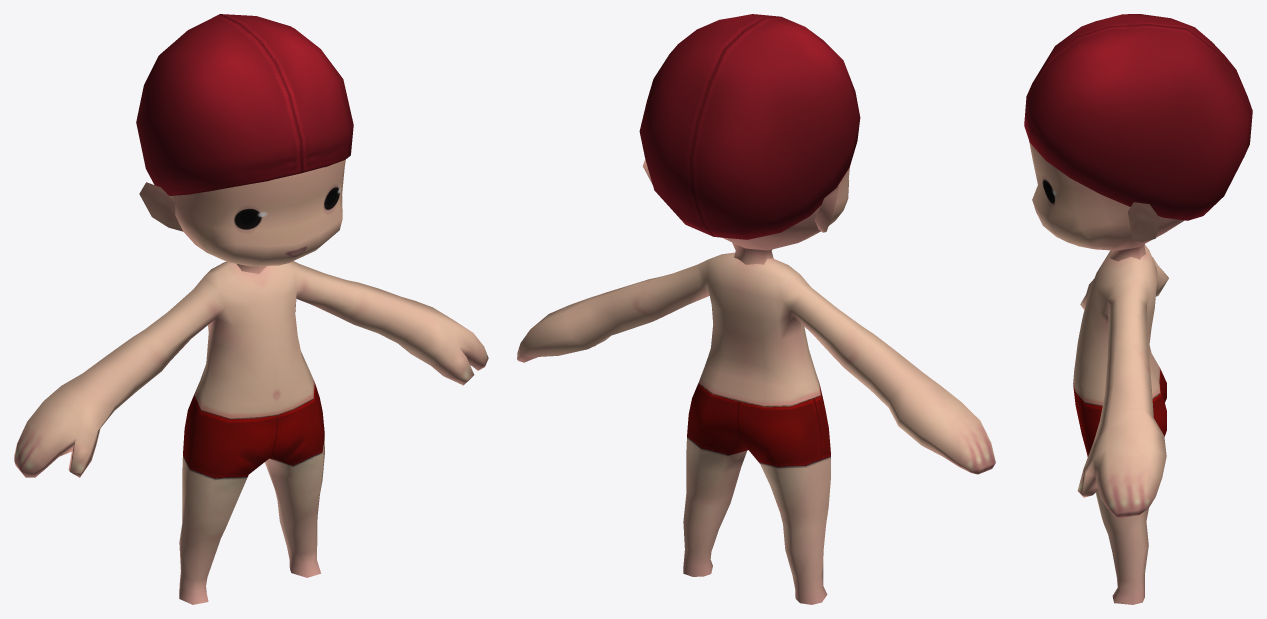
File: eve_male.FBX
3 renders of one model, left to right at view 1: azimuth 30°, elevation 25°; view 2: azimuth 150°, elevation 25°; view 3: azimuth 270°, elevation 25°, orthographic. The views are drawn at different scales.
Visible parts, largest first — view 1: head_R001; view 2: head_R001; view 3: head_R001.
Part boxes in pixels (left/top/right/bottom): head_R001: left=14, top=14, right=488, bottom=604; head_R001: left=517, top=14, right=995, bottom=604; head_R001: left=1024, top=14, right=1252, bottom=604.
Bounding box in the file's own units: 0.2705 × 0.3064 × 0.116.
